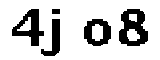4: (8, 6, 45, 47)
8: (115, 5, 155, 51)
j: (43, 6, 72, 60)
o: (81, 14, 114, 51)
